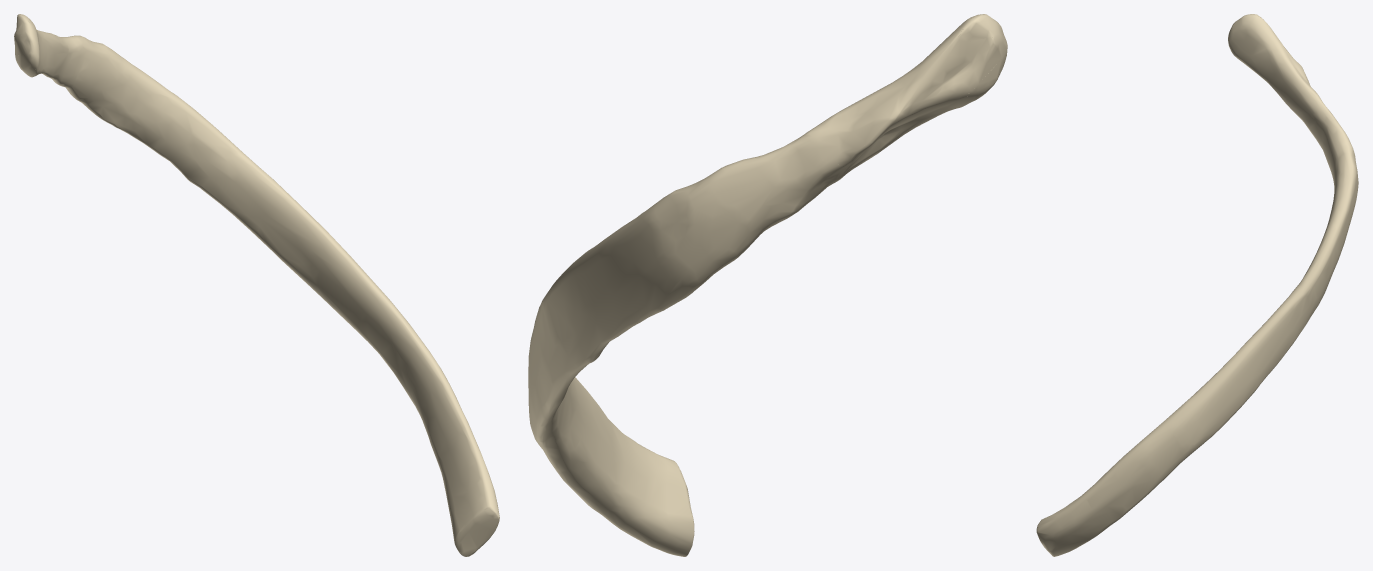
Rendered from esqueleto-tenth-rib-l.glb.
3 views of the same model, side by side, from view 1: azimuth 30°, elevation 25°; view 2: azimuth 150°, elevation 25°; view 3: azimuth 270°, elevation 25° (orthographic). The views are drawn at different scales.
Visible parts, largest first — view 1: Tenth rib.l; view 2: Tenth rib.l; view 3: Tenth rib.l.
Part boxes in pixels (x1=…): Tenth rib.l: x1=14, y1=14, x2=499, y2=556; Tenth rib.l: x1=528, y1=14, x2=1007, y2=556; Tenth rib.l: x1=1036, y1=14, x2=1358, y2=556.
Bounding box in the file's own units: 0.1129 × 0.1568 × 0.1094.
